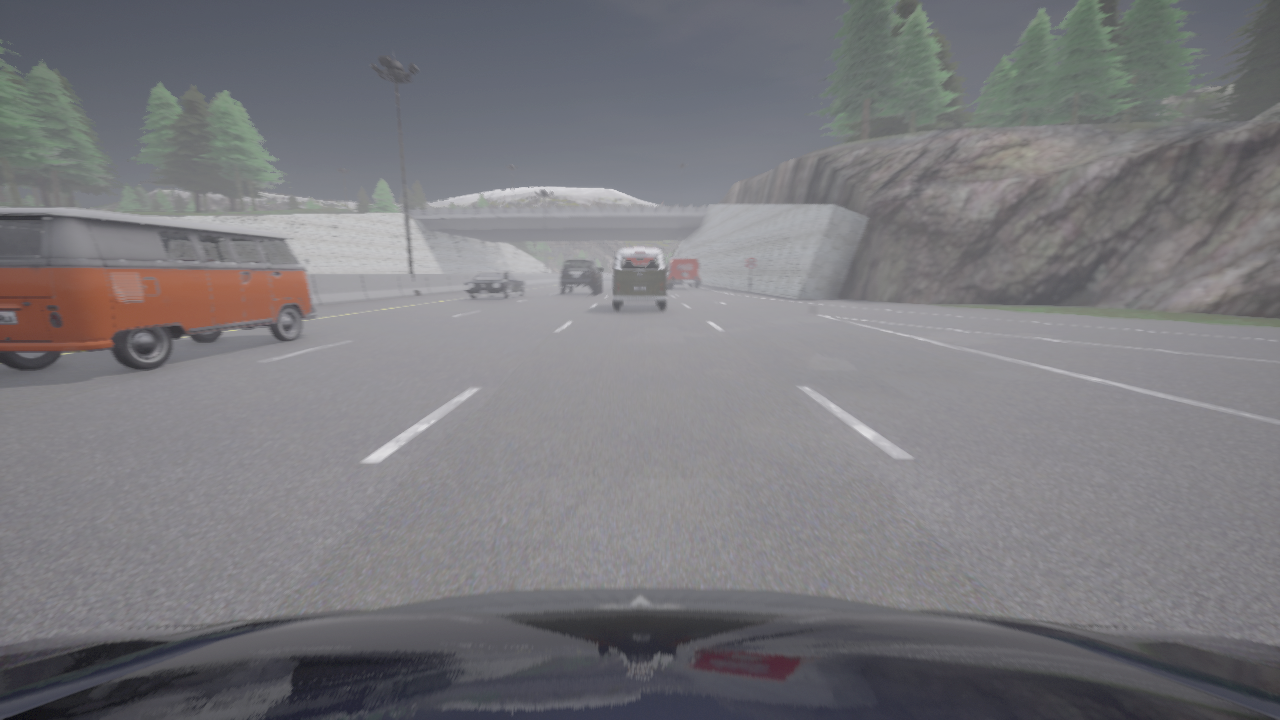cyclist: (0, 588, 1279, 719), (612, 247, 666, 309), (463, 272, 525, 298), (559, 259, 602, 294), (666, 258, 700, 288)
